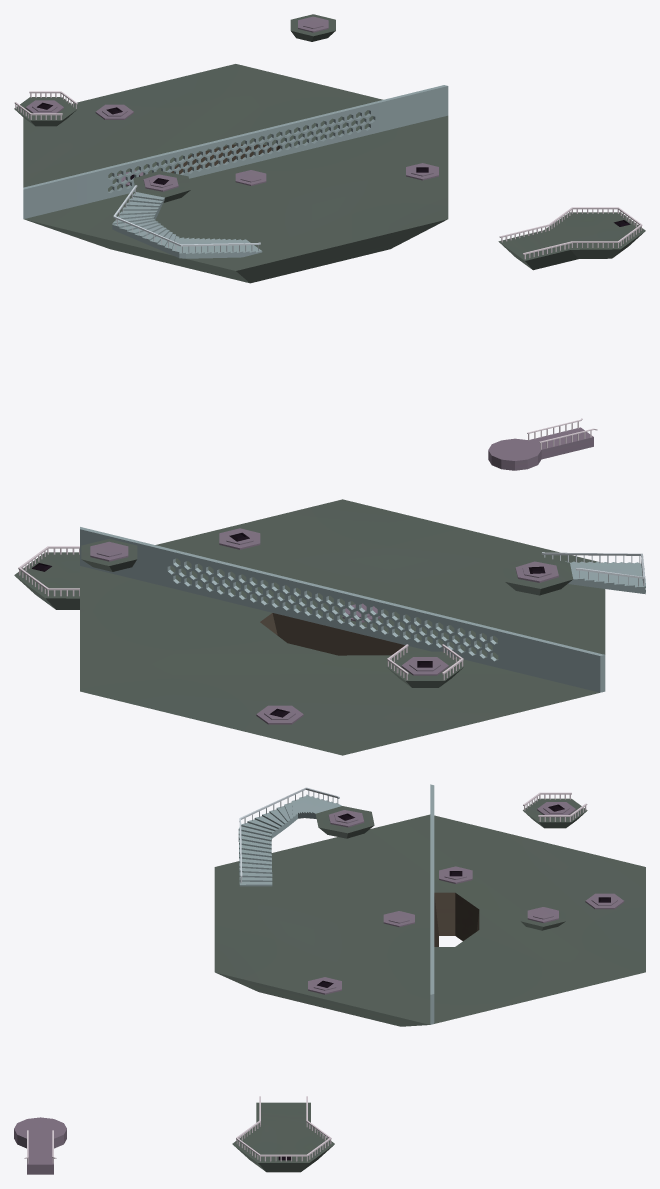
File: lvl1_playspace1.0.glb
The picture shows the model from 3 angles, top to bottom: view 1: azimuth 30°, elevation 25°; view 2: azimuth 150°, elevation 25°; view 3: azimuth 270°, elevation 25°; orthographic projection. The views are drawn at different scales.
Parts seen in each view (by area): view 1: lvl1_playspace; view 2: lvl1_playspace; view 3: lvl1_playspace.
Part boxes in pixels (left/top/right/bottom): lvl1_playspace: left=14, top=14, right=645, bottom=470; lvl1_playspace: left=14, top=499, right=645, bottom=755; lvl1_playspace: left=14, top=784, right=645, bottom=1174.
Size of the model in its own units: 75.95 by 32.93 by 76.11.
1 material, 1 textured.
